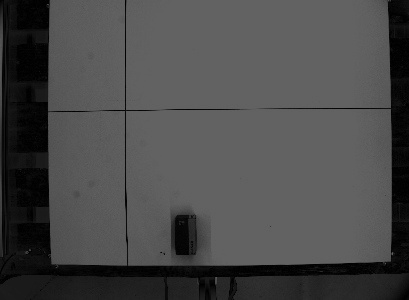b3: (171, 212, 199, 257)
